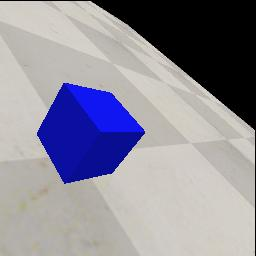box: (37, 83, 145, 184)
